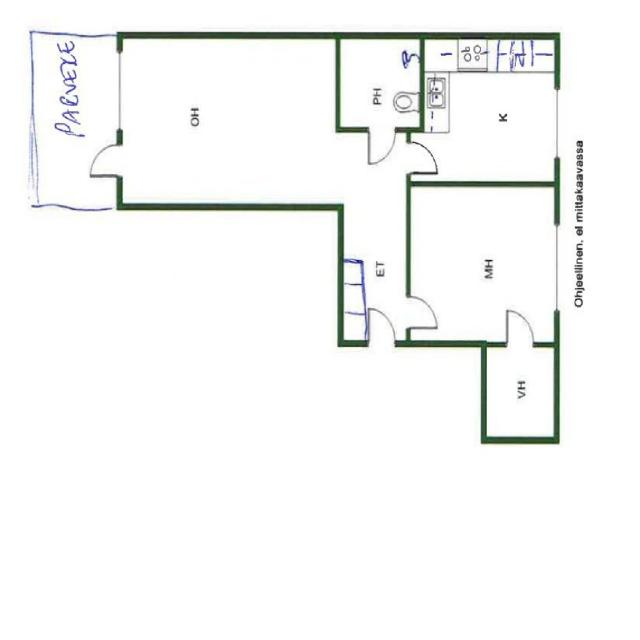door: (506, 308, 534, 347), (406, 142, 438, 176), (90, 144, 122, 177), (368, 127, 395, 166), (406, 296, 438, 328), (369, 309, 395, 347)
